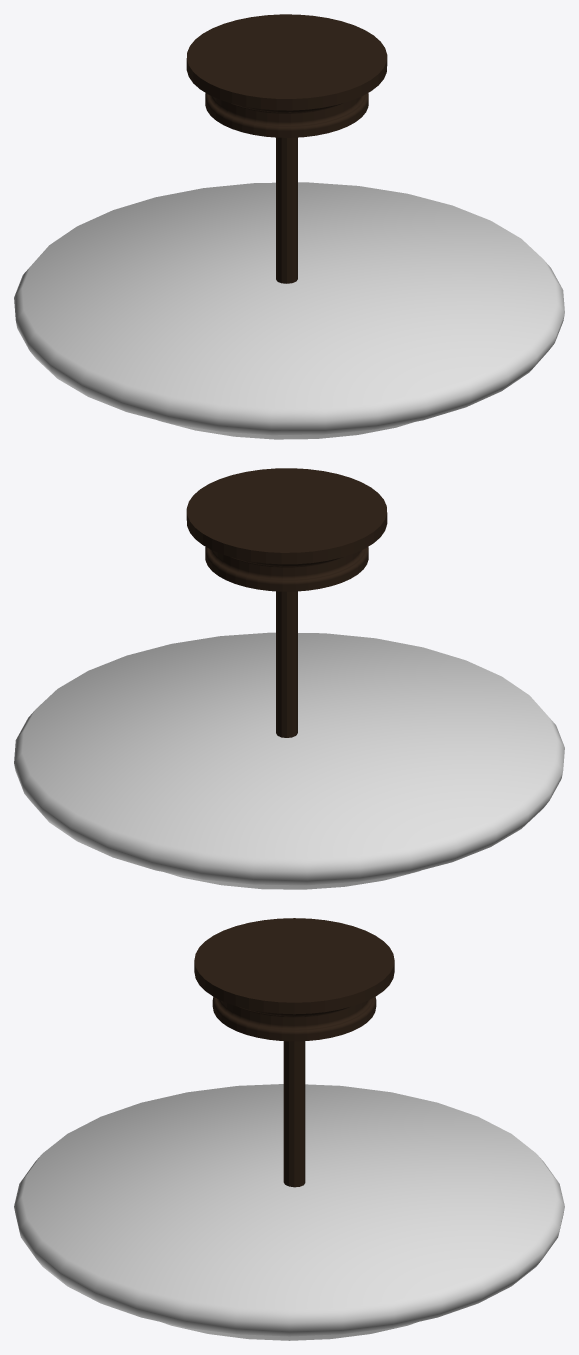
The model's file is lamp.dae.
The picture shows the model from 3 angles, top to bottom: view 1: azimuth 30°, elevation 25°; view 2: azimuth 150°, elevation 25°; view 3: azimuth 270°, elevation 25°; orthographic projection.
Parts seen in each view (by area): view 1: Line869; view 2: Line869; view 3: Line869.
Boxes of the visible parts, bbox=[...] form: Line869: bbox=[14, 14, 564, 439]; Line869: bbox=[14, 468, 564, 889]; Line869: bbox=[14, 918, 564, 1340].
Size of the model in its own units: 8.72 by 8.72 by 6.32.
